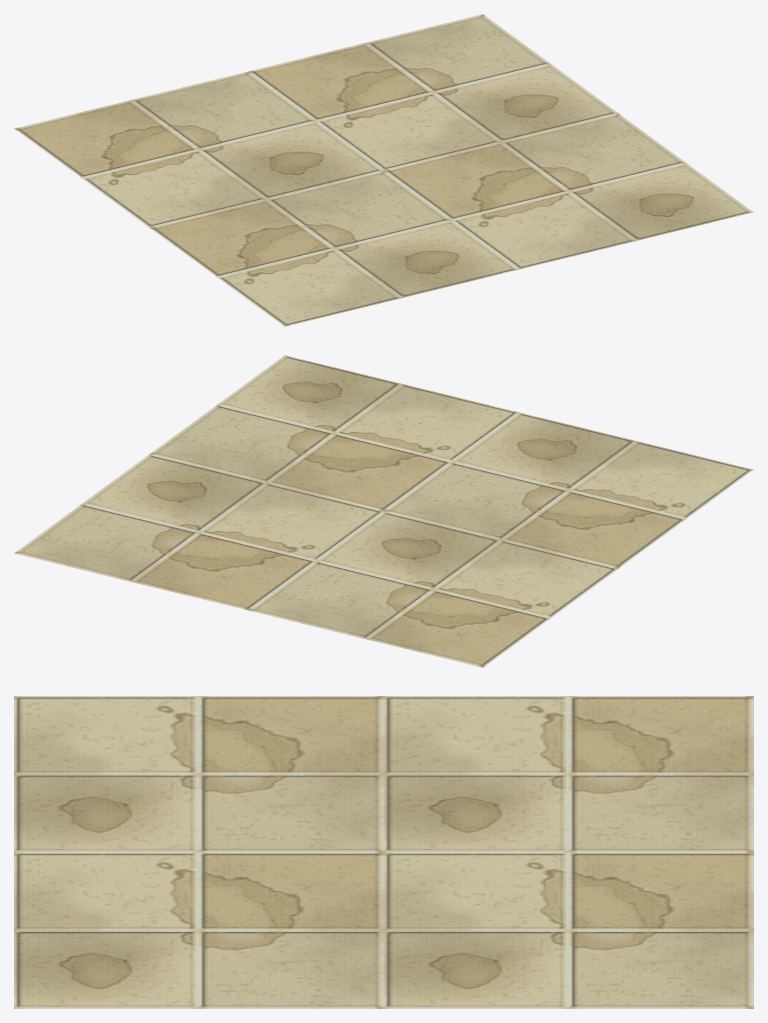
Rendered from back_ceiling_light.obj.
3 views of the same model, one above another, from view 1: azimuth 30°, elevation 25°; view 2: azimuth 150°, elevation 25°; view 3: azimuth 270°, elevation 25° (orthographic). The views are drawn at different scales.
Parts seen in each view (by area): view 1: back_ceiling_light_ceiling; view 2: back_ceiling_light_ceiling; view 3: back_ceiling_light_ceiling.
Boxes of the visible parts, bbox=[...] form: back_ceiling_light_ceiling: bbox=[14, 14, 753, 326]; back_ceiling_light_ceiling: bbox=[14, 355, 753, 667]; back_ceiling_light_ceiling: bbox=[14, 696, 753, 1008].
Bounding box in the file's own units: 2 × 0.03 × 2.
Materials: 3 (3 with a texture image).
